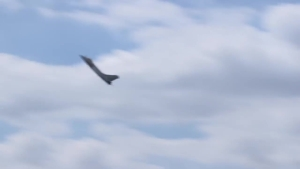flight: (79, 54, 120, 86)
